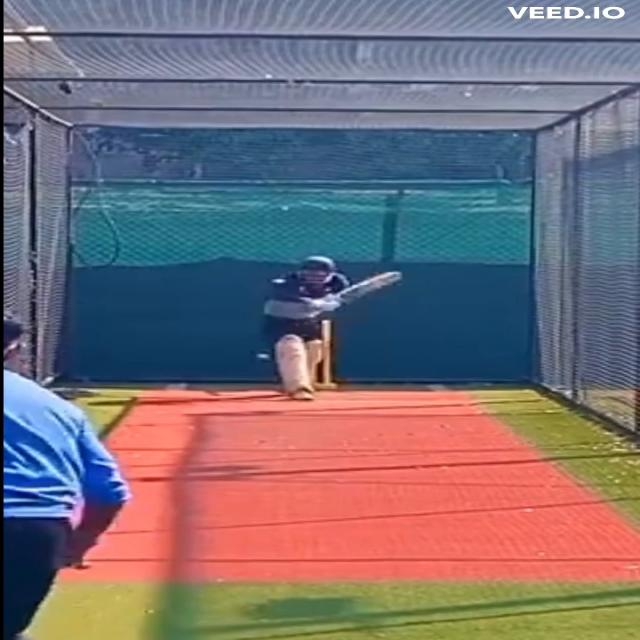ball: (251, 349, 277, 362)
stump: (316, 318, 342, 392)
